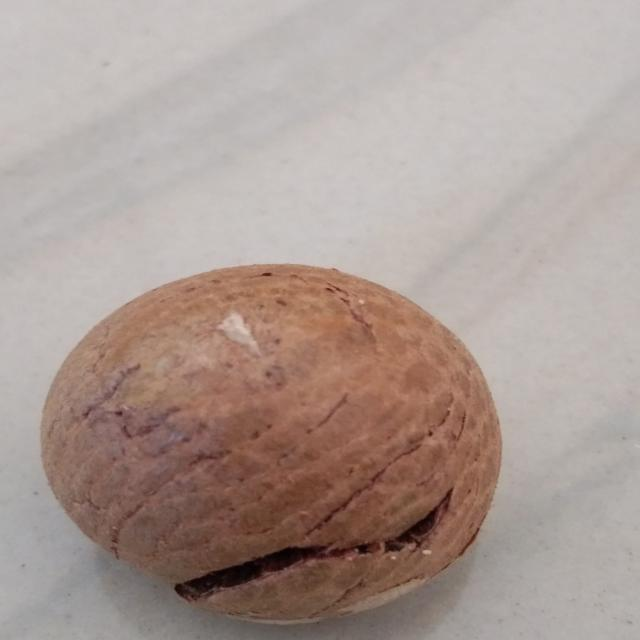phatora: (34, 262, 507, 634)
